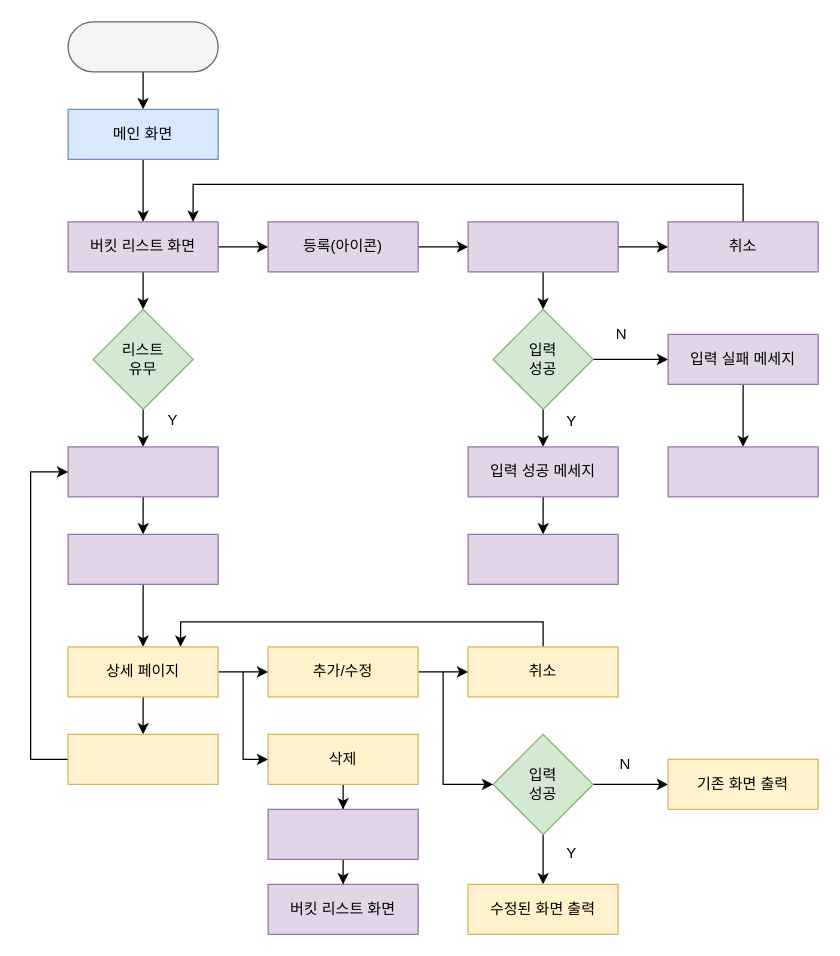
This 840x956 diagram has some shape labels left out. The centre of each missing label's shape, as x and y in pixels:
기존 화면: the point at 742,471
뒤로 가기: the point at 142,758
리스트 추가된 화면: the point at 542,558
리스트 출력: the point at 142,471
삭제처리: the point at 342,833
앱 실행: the point at 142,46
입력 창: the point at 542,246
항목 클릭: the point at 142,558
